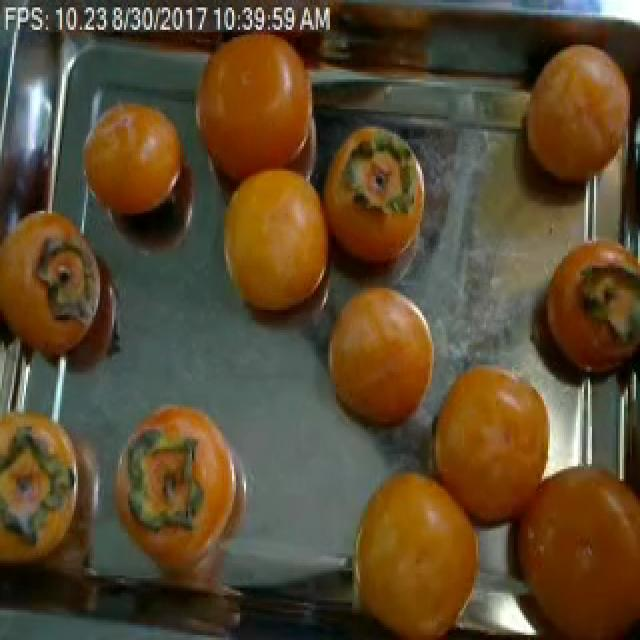Fruit: (332, 446, 498, 640), (414, 340, 560, 556), (174, 8, 320, 218), (492, 444, 640, 640), (206, 146, 350, 342), (310, 270, 452, 454), (312, 109, 432, 303), (114, 389, 258, 546), (518, 223, 640, 404), (512, 27, 634, 201), (74, 87, 190, 236)
